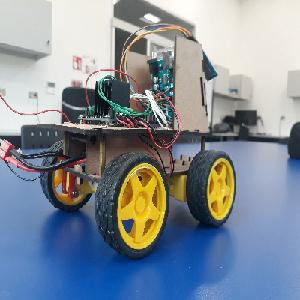Robot: (36, 23, 237, 260)
